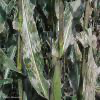Corn Gray leaf spot: (16, 0, 55, 99), (62, 0, 86, 77), (80, 30, 99, 99)
